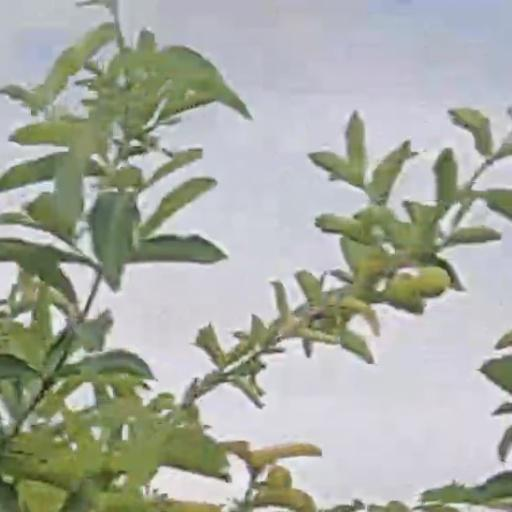acerola: (386, 272, 418, 303), (421, 270, 452, 294)
